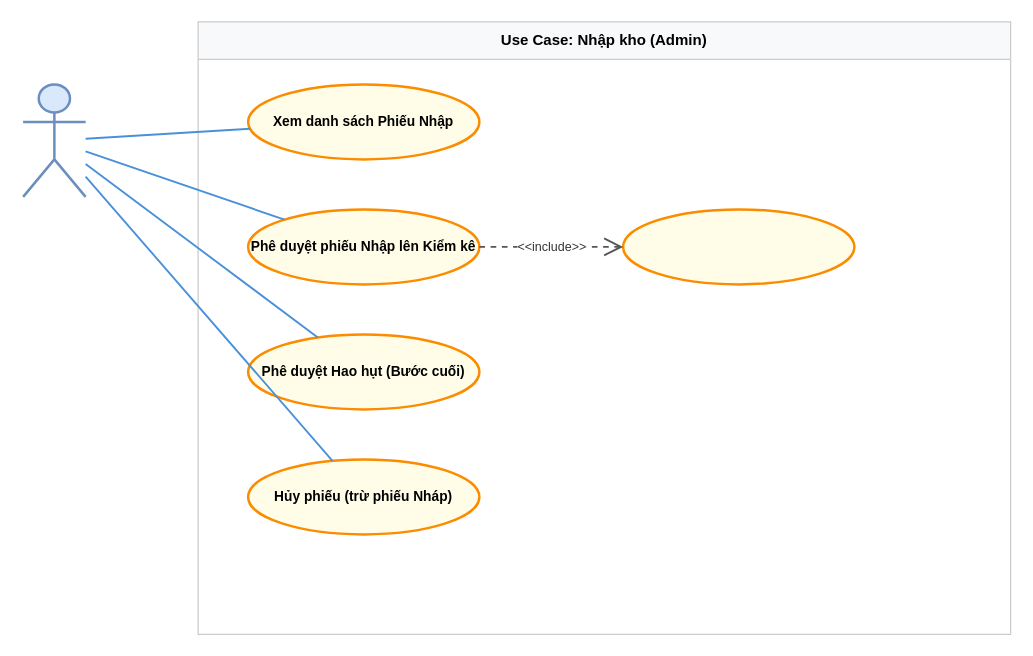
Image size: 1033x656. Some labels were removed from this diagram. Each missing label, with the centre of its shape:
"Admin" goes at pixel 53 140.
"Trừ tồn kho nguồn (kho tổng)" goes at pixel 738 246.
